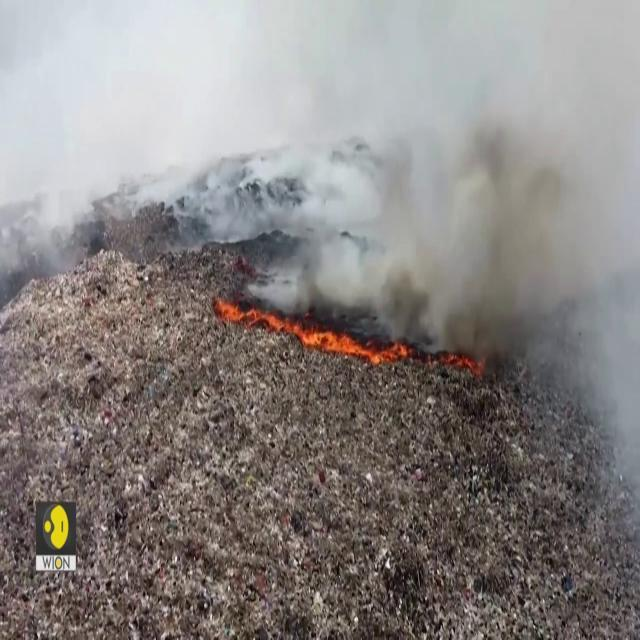Fire: (289, 314, 412, 378), (218, 296, 284, 334)
Smoke: (205, 0, 640, 298)
